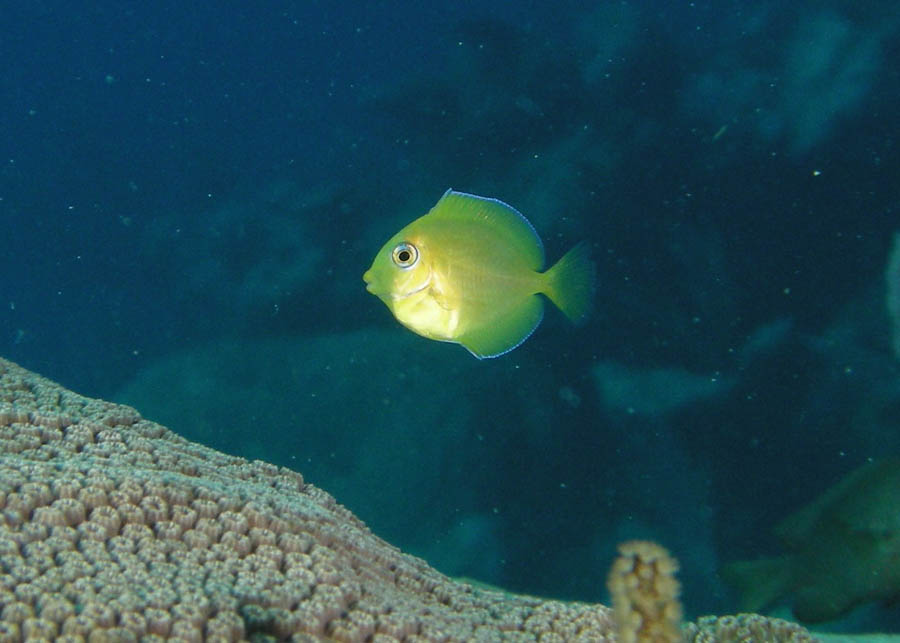Acanthurus_coeruleus: (357, 181, 599, 384)
